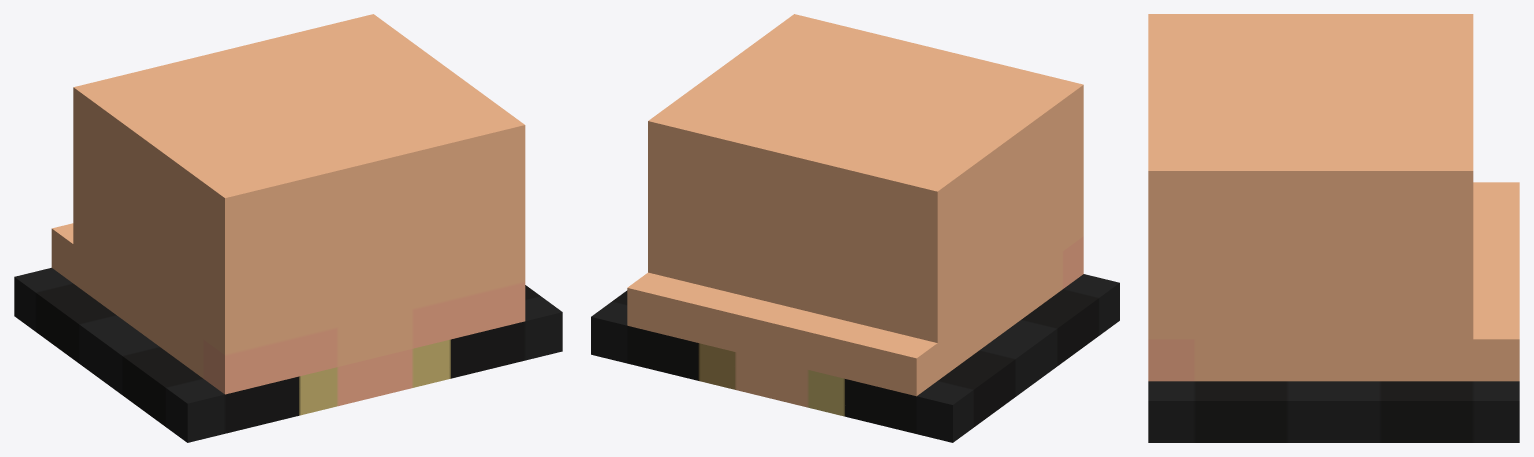
File: Spine045.fbx
The picture shows the model from 3 angles, left to right: view 1: azimuth 30°, elevation 25°; view 2: azimuth 150°, elevation 25°; view 3: azimuth 270°, elevation 25°; orthographic projection. The views are drawn at different scales.
Visible parts, largest first — view 1: Spine045; view 2: Spine045; view 3: Spine045.
Part boxes in pixels (x1,y1,x2,y2): Spine045: (14, 14, 562, 442); Spine045: (591, 14, 1119, 442); Spine045: (1148, 14, 1519, 442).
Size of the model in its own units: 10 by 6 by 8.
